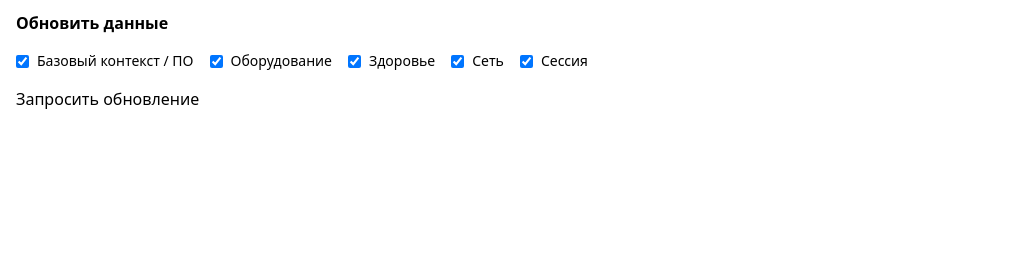
Test case: Context collection lifecycle › preserves partial errors and rereads context only after provider completed
Click the button "Запросить обновление" at (108, 99), box [16, 87, 199, 111]
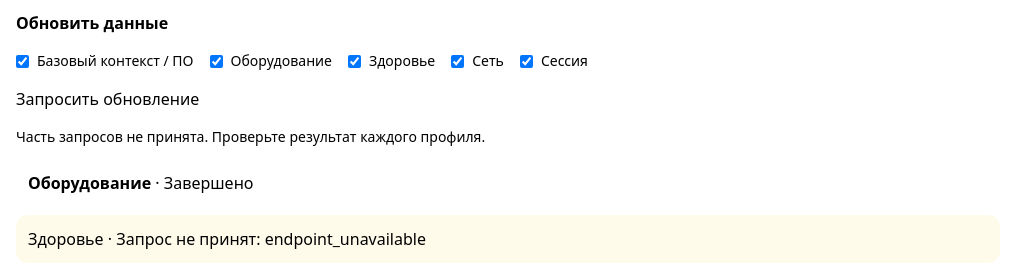
expect the text "Часть запросов не принята" is shown: met, box [16, 127, 485, 146]
expect the list item "Оборудование · Завершено" is shown: met, box [28, 172, 254, 194]
expect the list item "Здоровье · Запрос не принят: endpoint_unavailable" is shown: met, box [16, 215, 1000, 263]
